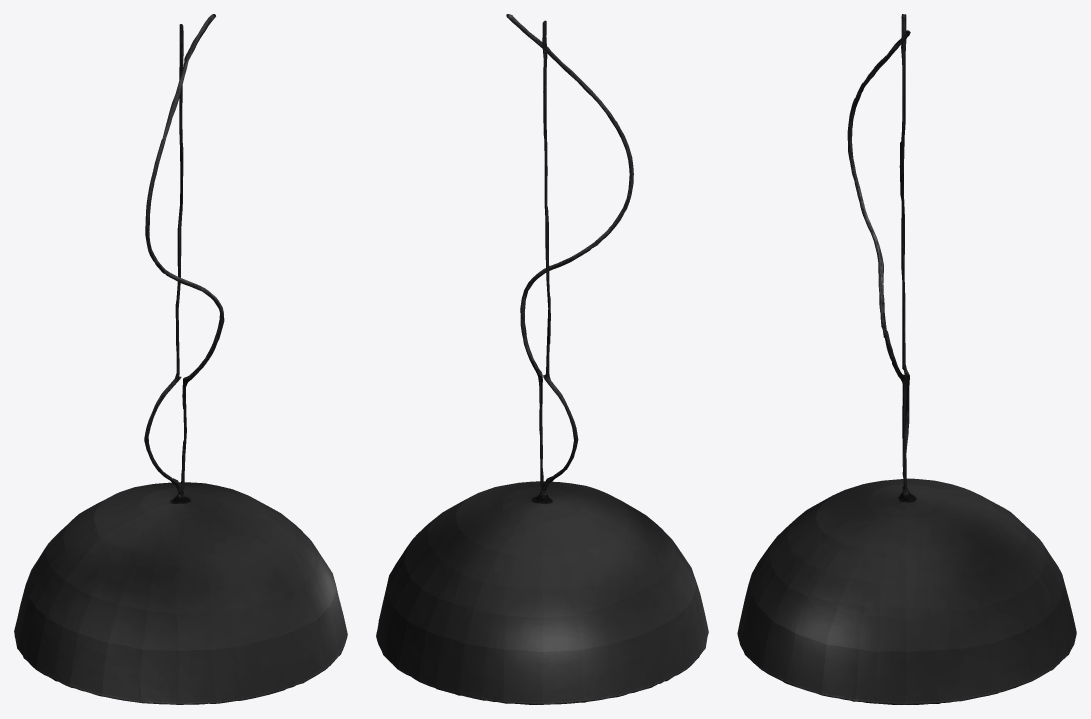
The model's file is 5ef2317a-4423-4241-9ccb-8135f66616f9.glb.
3 views of the same model, side by side, from view 1: azimuth 30°, elevation 25°; view 2: azimuth 150°, elevation 25°; view 3: azimuth 270°, elevation 25° (orthographic).
Parts seen in each view (by area): view 1: world; view 2: world; view 3: world.
Boxes of the visible parts, box(x1,y1,x2,y2) form: world: box(14, 14, 347, 704); world: box(376, 14, 708, 704); world: box(737, 14, 1076, 704).
Size of the model in its own units: 0.4958 by 1 by 0.4967.
1 material, 1 textured.
